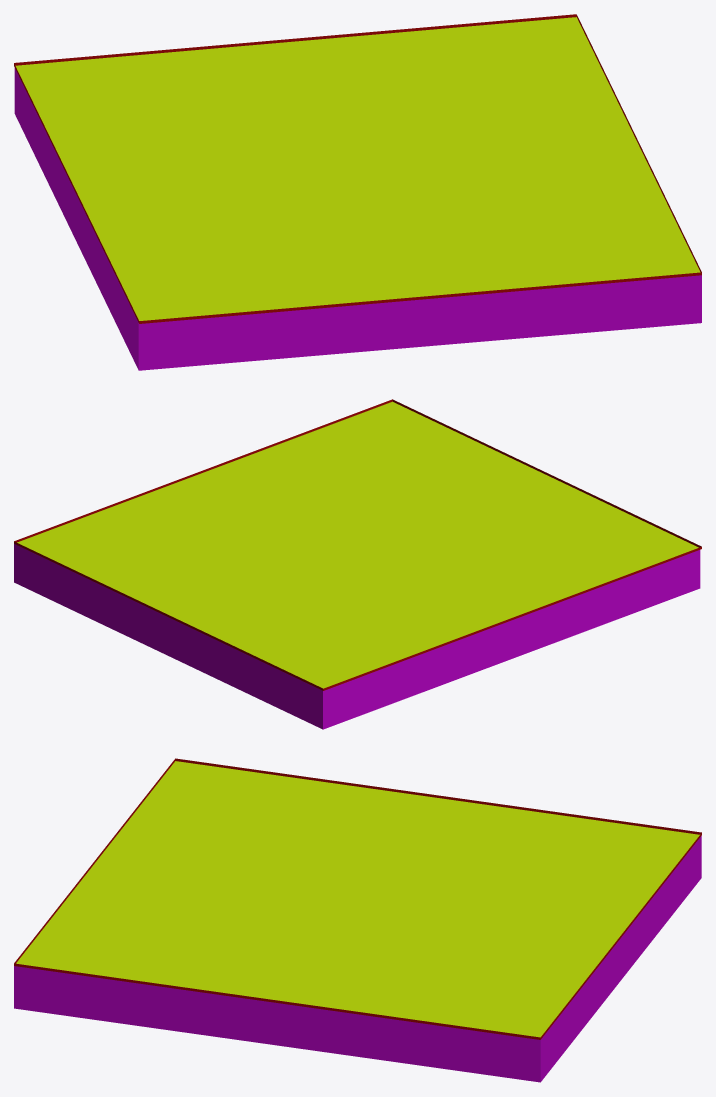
Rendered from bgj_109.glb.
3 renders of one model, top to bottom at view 1: azimuth 30°, elevation 25°; view 2: azimuth 150°, elevation 25°; view 3: azimuth 270°, elevation 25°, orthographic. The views are drawn at different scales.
Parts seen in each view (by area): view 1: bgj_109; view 2: bgj_109; view 3: bgj_109.
Part boxes in pixels (bbox=[...]): bgj_109: bbox=[14, 14, 701, 370]; bgj_109: bbox=[14, 399, 701, 729]; bgj_109: bbox=[14, 758, 701, 1082].
Bounding box in the file's own units: 81.68 × 6.16 × 85.12.
